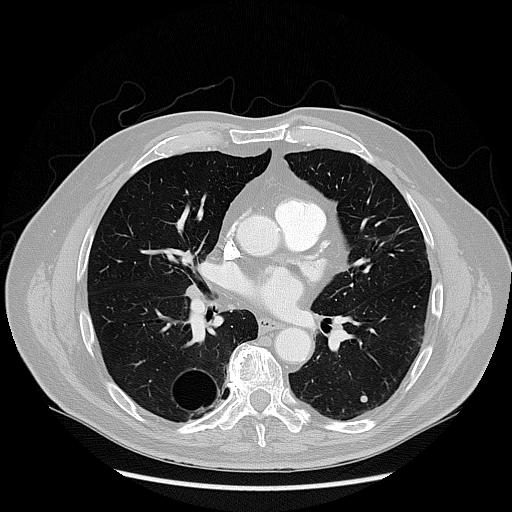nodule: (357, 392, 370, 405)
